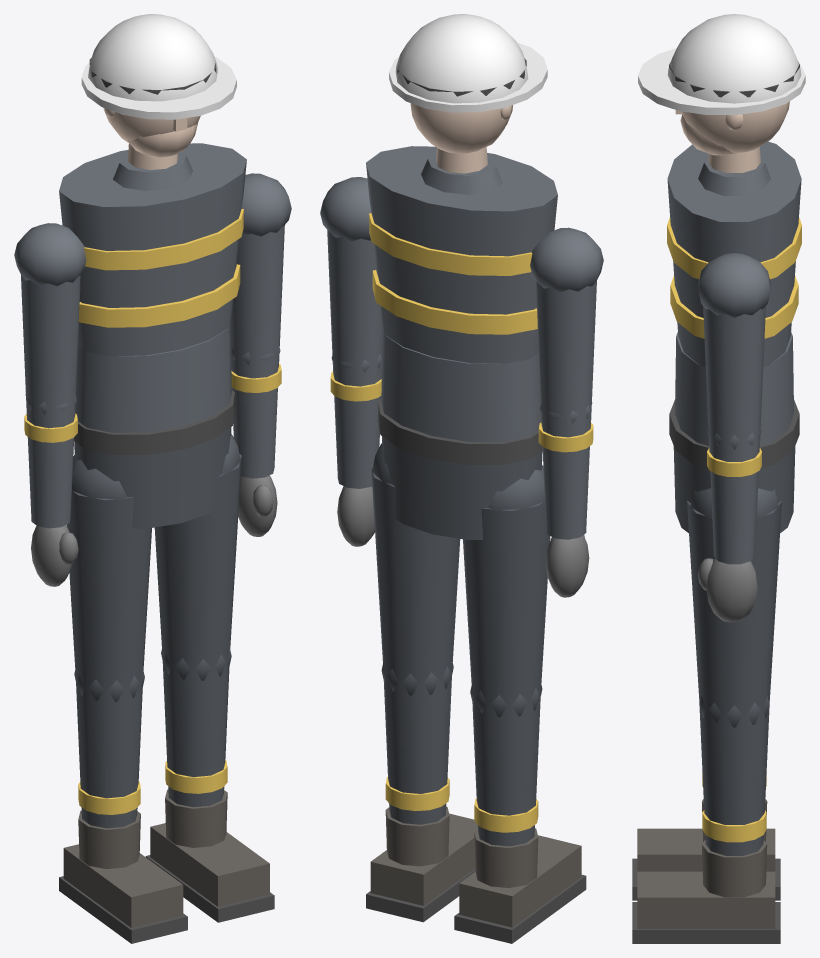
File: master.glb
The picture shows the model from 3 angles, left to right: view 1: azimuth 30°, elevation 25°; view 2: azimuth 150°, elevation 25°; view 3: azimuth 270°, elevation 25°; orthographic projection. The views are drawn at different scales.
Parts seen in each view (by area): view 1: chest, head, hip_R, hip_L, spine, pelvis, ankle_R, shoulder_R, ankle_L, knee_R, knee_L, shoulder_L (+5 smaller); view 2: chest, hip_R, head, hip_L, spine, pelvis, shoulder_R, ankle_R, knee_L, knee_R, ankle_L, shoulder_L (+5 smaller); view 3: chest, head, hip_L, ankle_L, shoulder_L, knee_L, elbow_L, pelvis, spine, ankle_R, wrist_L, neck.
Part boxes in pixels (x1,y1,x2,y2): chest: (59, 143, 246, 356); head: (81, 14, 236, 157); hip_R: (66, 455, 151, 690); hip_L: (154, 434, 241, 669); spine: (75, 322, 231, 432); pelvis: (74, 390, 234, 528); ankle_R: (59, 810, 187, 943); shoulder_R: (14, 223, 86, 408); ankle_L: (145, 789, 274, 922); knee_R: (74, 668, 144, 828); knee_L: (161, 647, 231, 807); shoulder_L: (230, 173, 291, 358); chest: (366, 146, 557, 363); hip_R: (463, 465, 550, 705); head: (389, 14, 547, 153); hip_L: (371, 443, 460, 683); spine: (381, 328, 541, 442); pelvis: (378, 399, 542, 539); shoulder_R: (530, 227, 603, 416); ankle_R: (454, 828, 586, 943); knee_L: (381, 661, 453, 824); knee_R: (470, 683, 542, 846); ankle_L: (366, 806, 477, 922); shoulder_L: (320, 177, 382, 365); chest: (667, 141, 801, 366); head: (638, 14, 805, 155); hip_L: (687, 488, 781, 714); ankle_L: (632, 840, 780, 943); shoulder_L: (698, 253, 770, 441); knee_L: (699, 696, 769, 855); elbow_L: (707, 428, 761, 564); pelvis: (669, 399, 799, 533); spine: (675, 331, 793, 445); ankle_R: (632, 799, 780, 900); wrist_L: (697, 558, 757, 622); neck: (708, 147, 760, 172).
Size of the model in its own units: 0.6182 by 1.92 by 0.3392.
